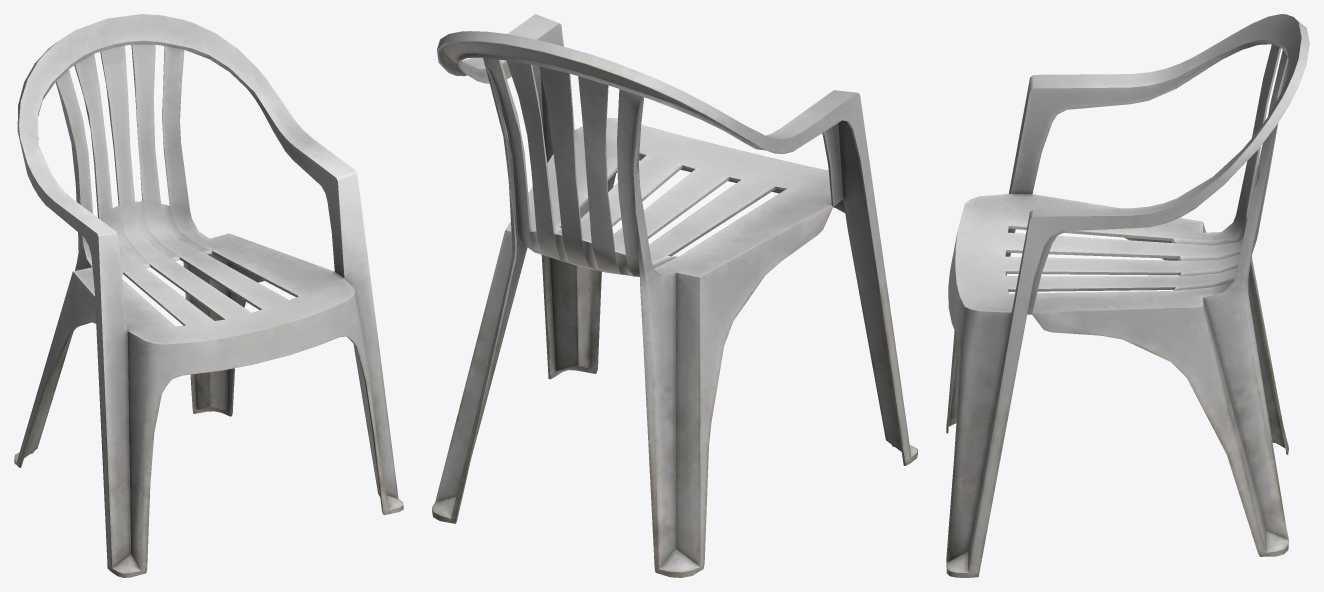
File: monoblocChair.glb
3 renders of one model, left to right at view 1: azimuth 30°, elevation 25°; view 2: azimuth 150°, elevation 25°; view 3: azimuth 270°, elevation 25°, orthographic. The views are drawn at different scales.
Parts seen in each view (by area): view 1: plastic_monobloc_chair_01; view 2: plastic_monobloc_chair_01; view 3: plastic_monobloc_chair_01.
Boxes of the visible parts, x1,y1,x2,y2 form: plastic_monobloc_chair_01: (14, 14, 403, 577); plastic_monobloc_chair_01: (432, 14, 917, 577); plastic_monobloc_chair_01: (946, 14, 1309, 577).
Size of the model in its own units: 0.6419 by 0.8798 by 0.6276.
Materials: 1 (1 with a texture image).
